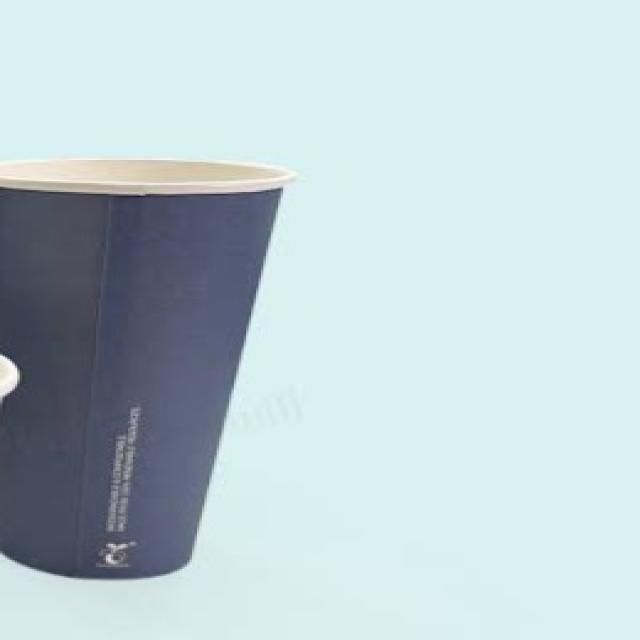plastic cup: (1, 141, 299, 584)
